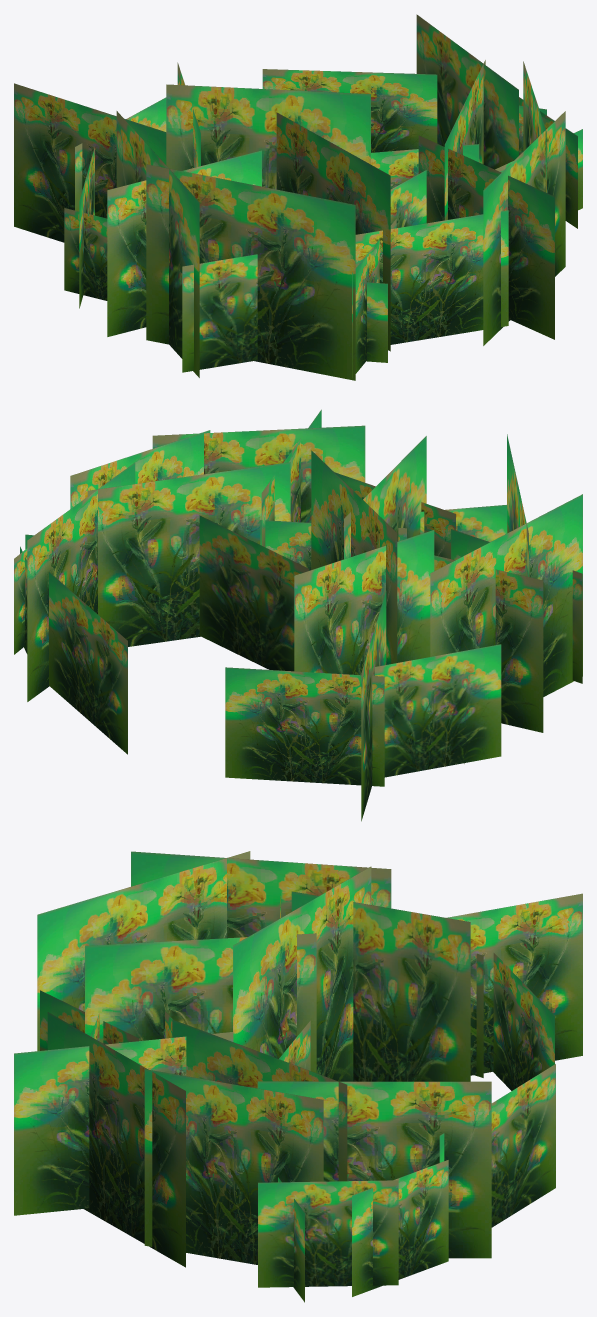
File: wm_灌木野花15.fbx
3 views of the same model, one above another, from view 1: azimuth 30°, elevation 25°; view 2: azimuth 150°, elevation 25°; view 3: azimuth 270°, elevation 25° (orthographic). The views are drawn at different scales.
Visible parts, largest first — view 1: wm_灌木野花15; view 2: wm_灌木野花15; view 3: wm_灌木野花15.
Boxes of the visible parts, box(x1,y1,x2,y2) form: wm_灌木野花15: box(14, 14, 582, 380); wm_灌木野花15: box(14, 409, 582, 821); wm_灌木野花15: box(14, 851, 582, 1302).
Bounding box in the file's own units: 203 × 79.55 × 181.
